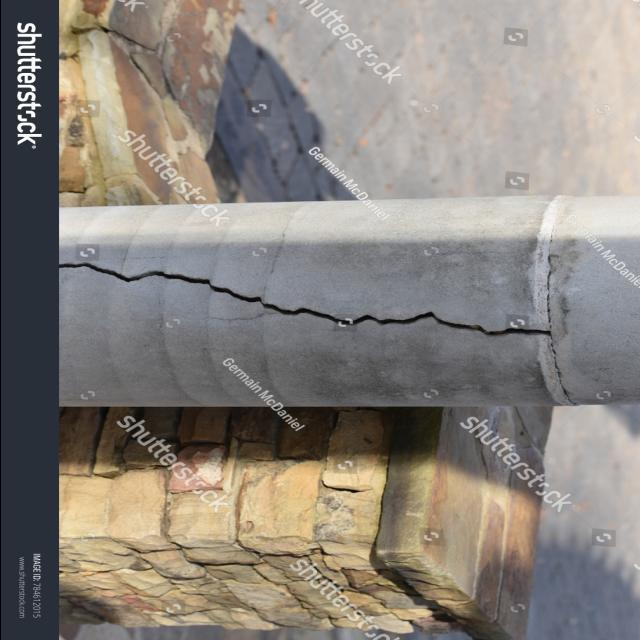crack: (58, 240, 594, 398)
